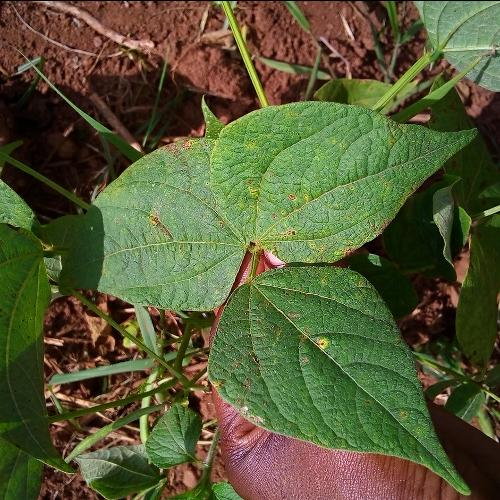hawar: (217, 288, 324, 419), (228, 154, 354, 258)
